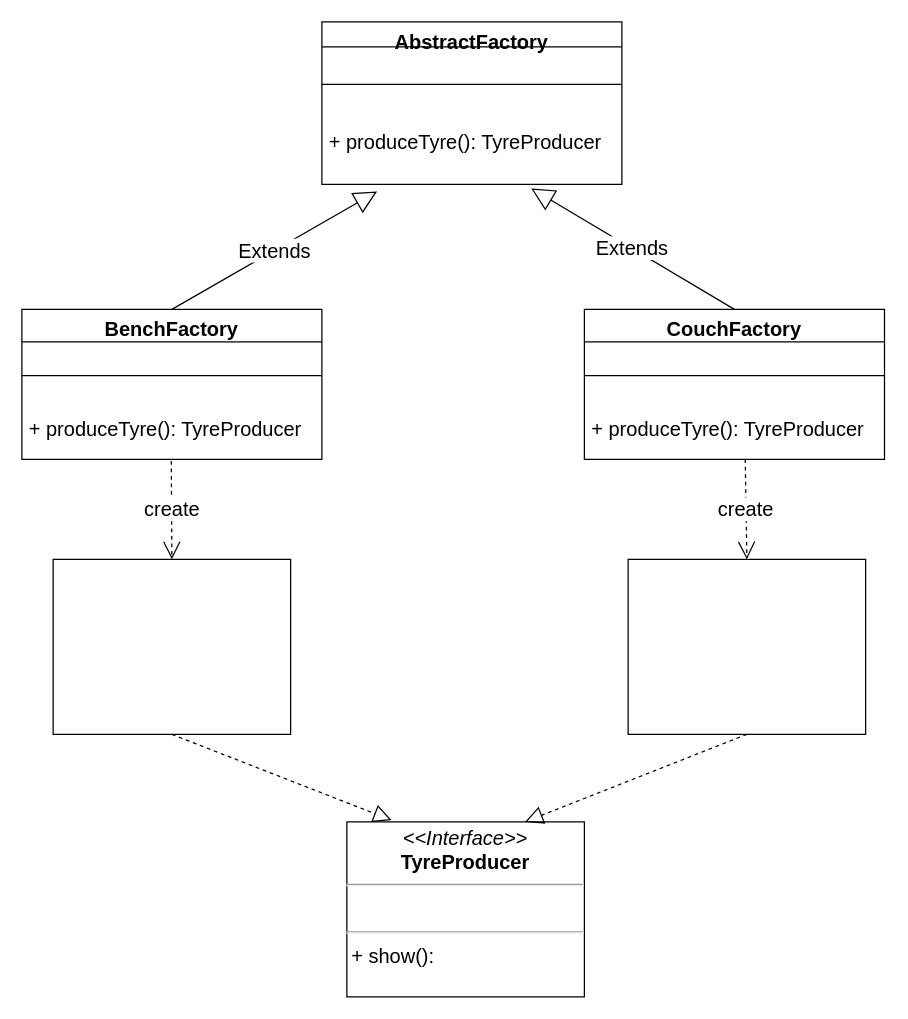
Image size: 908x1019. Some labels were removed from this diagram. Here are the shapes that lost their labels. From the top down, the centre of each, then its label:
At (171,646): "BenchTyre + show():".
At (746,646): "CouchTyre + show():".
